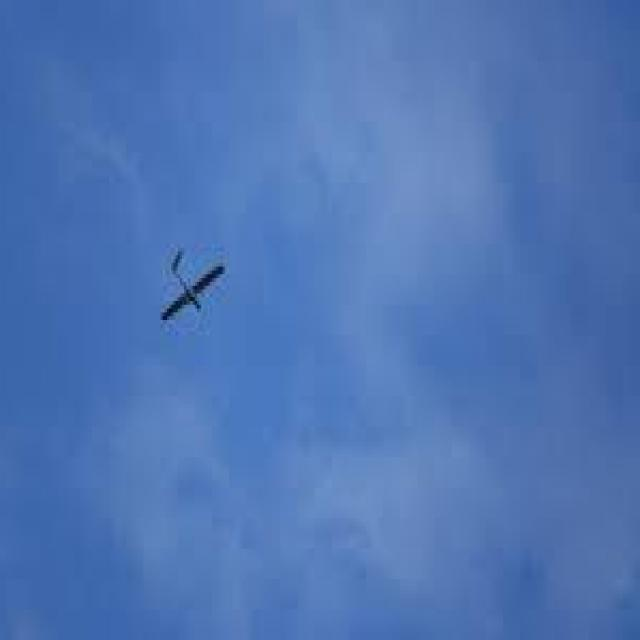iha: (182, 275, 198, 288)
